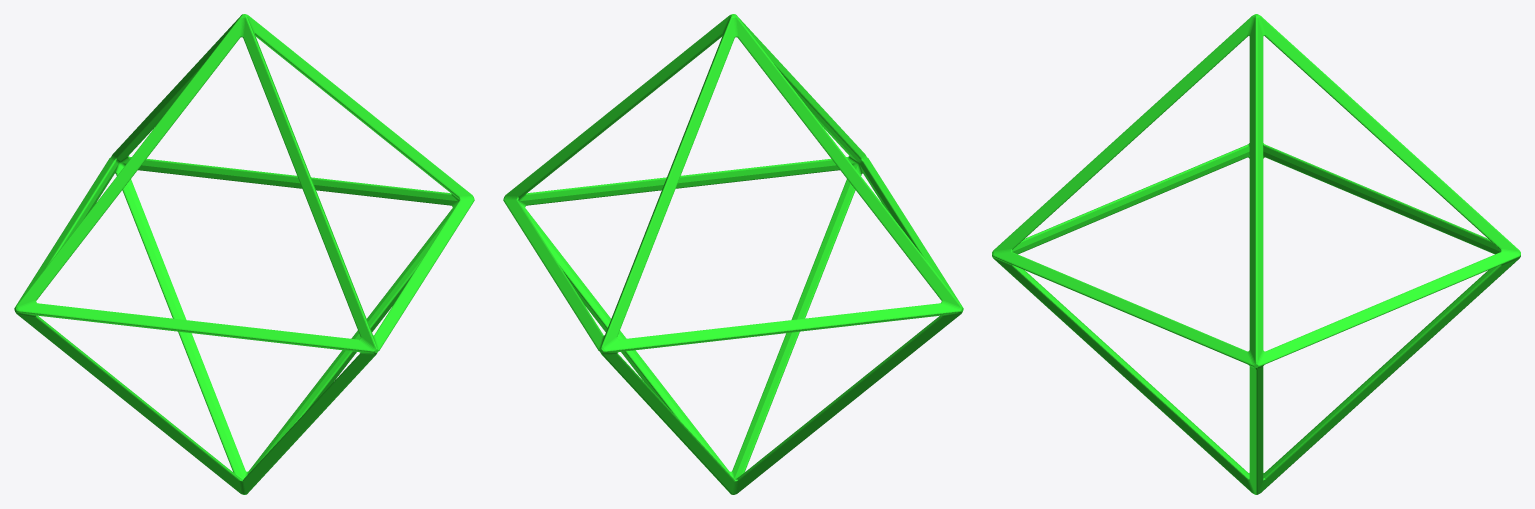
Rendered from Wireoctahedron.obj.
The picture shows the model from 3 angles, left to right: view 1: azimuth 30°, elevation 25°; view 2: azimuth 150°, elevation 25°; view 3: azimuth 270°, elevation 25°; orthographic projection.
Visible parts, largest first — view 1: Wireoctahedron; view 2: Wireoctahedron; view 3: Wireoctahedron.
Boxes of the visible parts, x1,y1,x2,y2 form: Wireoctahedron: (14,14,474,494); Wireoctahedron: (503,14,963,494); Wireoctahedron: (992,14,1520,494).
Bounding box in the file's own units: 1.02 × 1.02 × 1.02.
